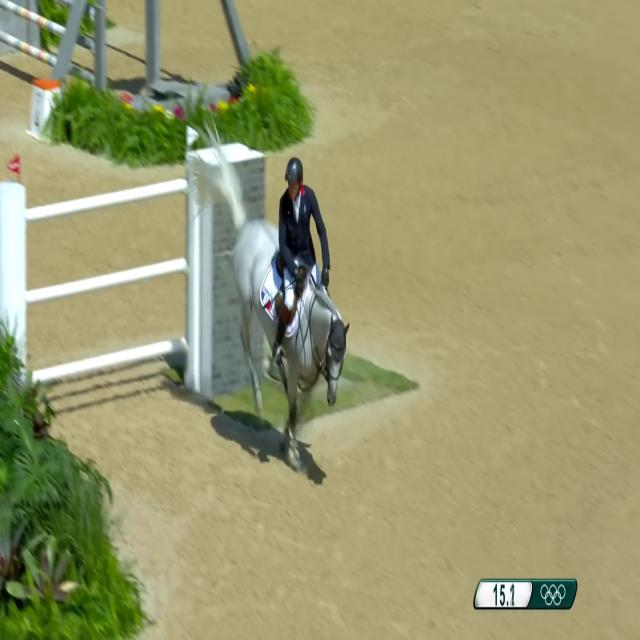Horse Jumping: (202, 110, 372, 495)
Horse Rider: (266, 123, 334, 337)
